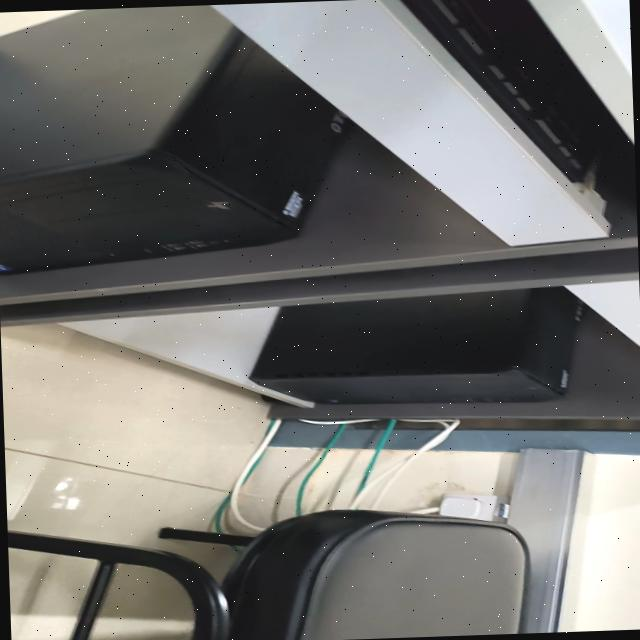Chair: (7, 508, 533, 640)
Cpu: (0, 4, 347, 272), (250, 287, 583, 402)
Keyboard: (402, 0, 618, 181)
